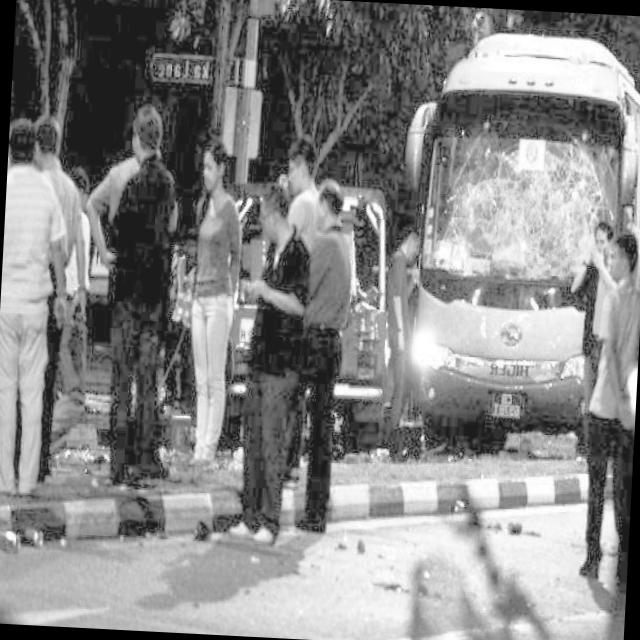Bus: (382, 4, 640, 485)
